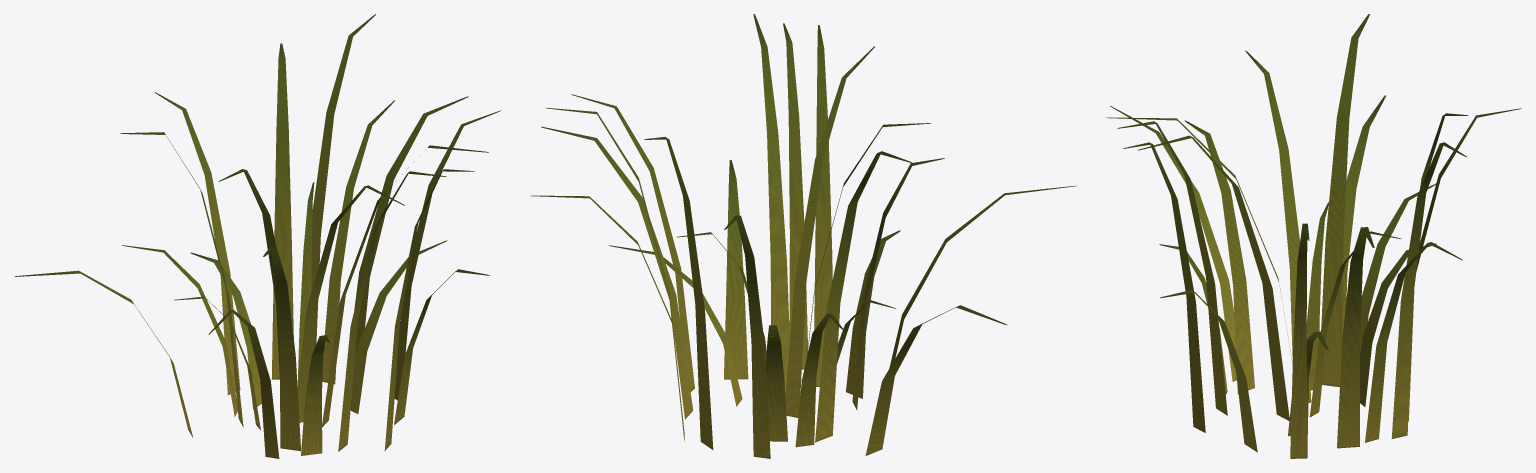
File: grass_tuft_3d.glb
3 views of the same model, side by side, from view 1: azimuth 30°, elevation 25°; view 2: azimuth 150°, elevation 25°; view 3: azimuth 270°, elevation 25° (orthographic). The views are drawn at different scales.
Visible parts, largest first — view 1: GrassTuft3D; view 2: GrassTuft3D; view 3: GrassTuft3D.
Part boxes in pixels (box(x1,y1,x2,y2)): GrassTuft3D: box(14, 14, 501, 458); GrassTuft3D: box(530, 14, 1076, 458); GrassTuft3D: box(1105, 14, 1521, 458).
Bounding box in the file's own units: 0.4979 × 0.3308 × 0.3764.
1 material, 1 textured.
